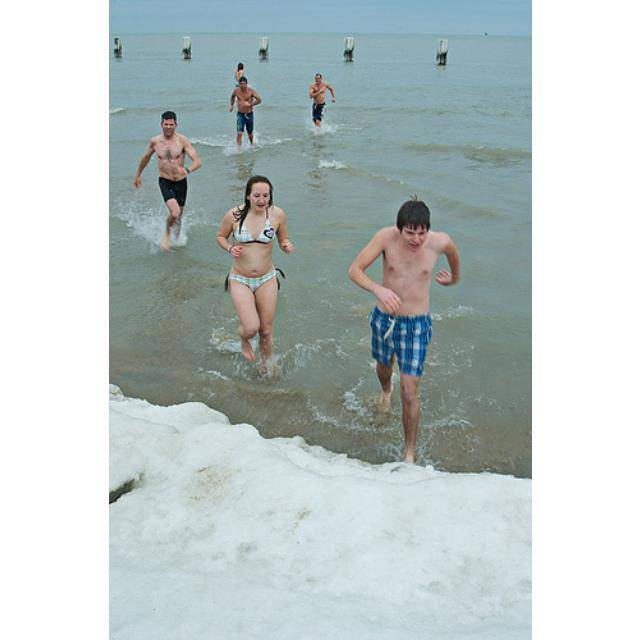human: (345, 196, 464, 457), (220, 176, 290, 369), (135, 110, 200, 259), (230, 79, 263, 150), (311, 69, 336, 134)
